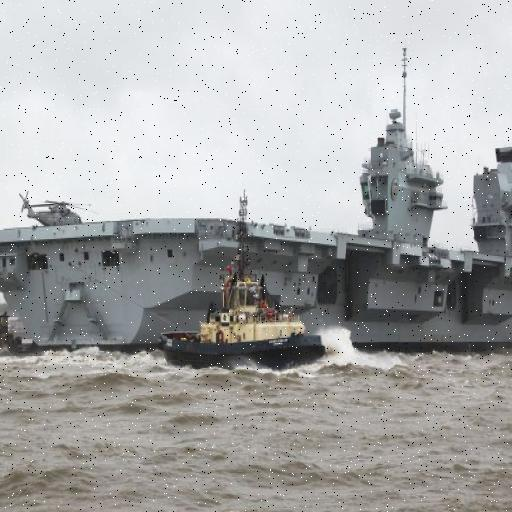Portanaves: (1, 97, 512, 362)
